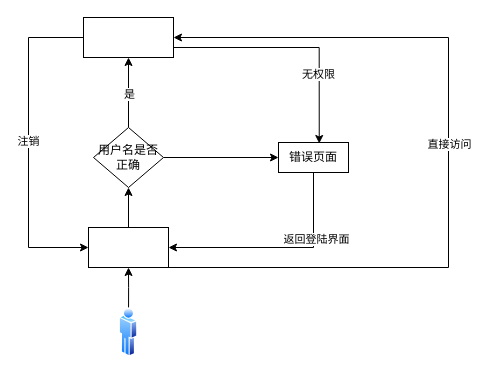
This 488x375 diagram has some shape labels left out. Each missing label, with the centre of its shape:
主页: [128,37]
登陆页面: [128,247]
